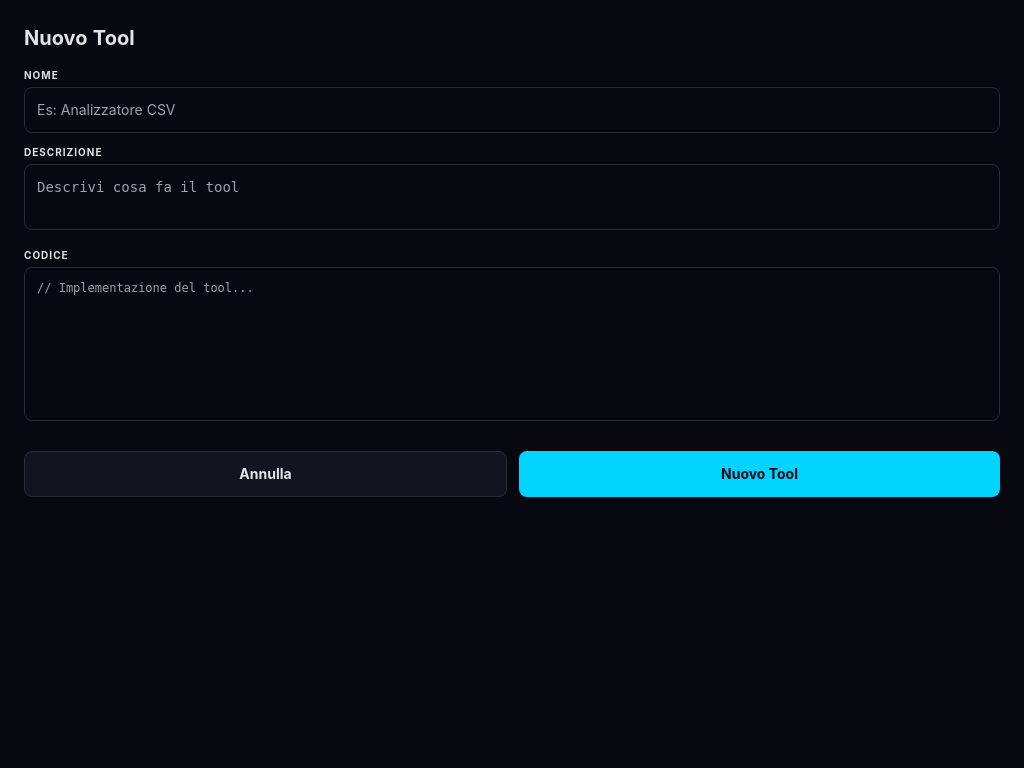
Test: ToolForm › catches non-Error exceptions
Type "Test" into the field with placeholder "Es: Analizzatore CSV".
click(512, 110); type("Test")  # box top-left (24, 87), bottom-right (1000, 133)
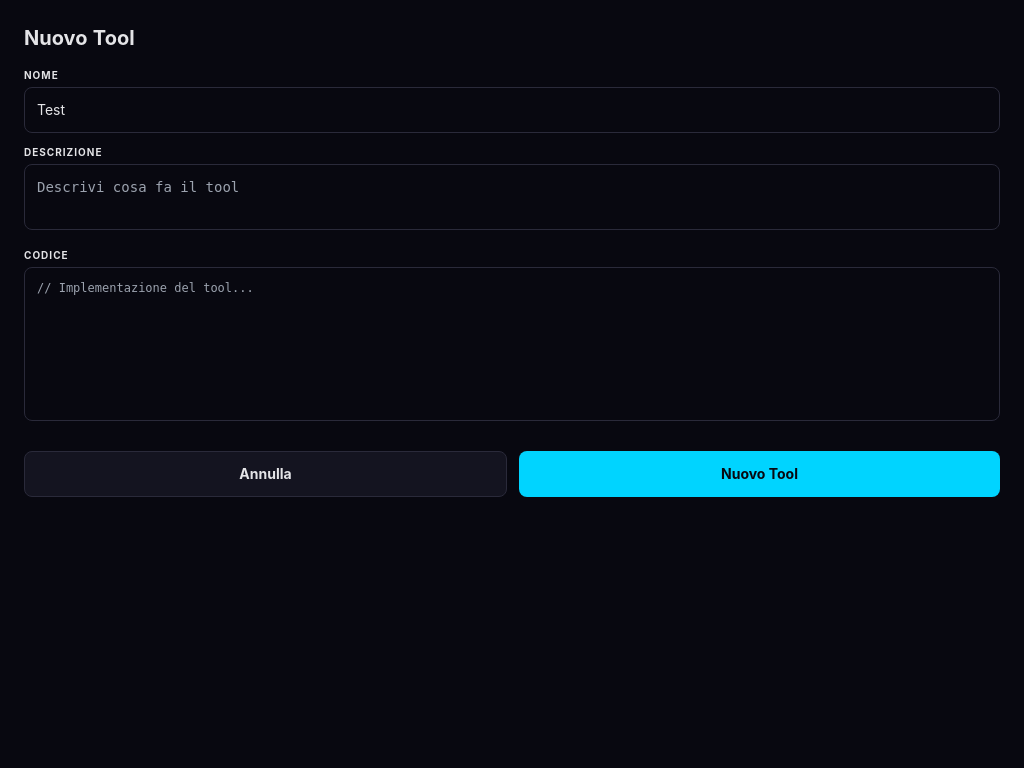
Click the button "Nuovo Tool".
click(760, 474)  # box top-left (519, 451), bottom-right (1000, 497)
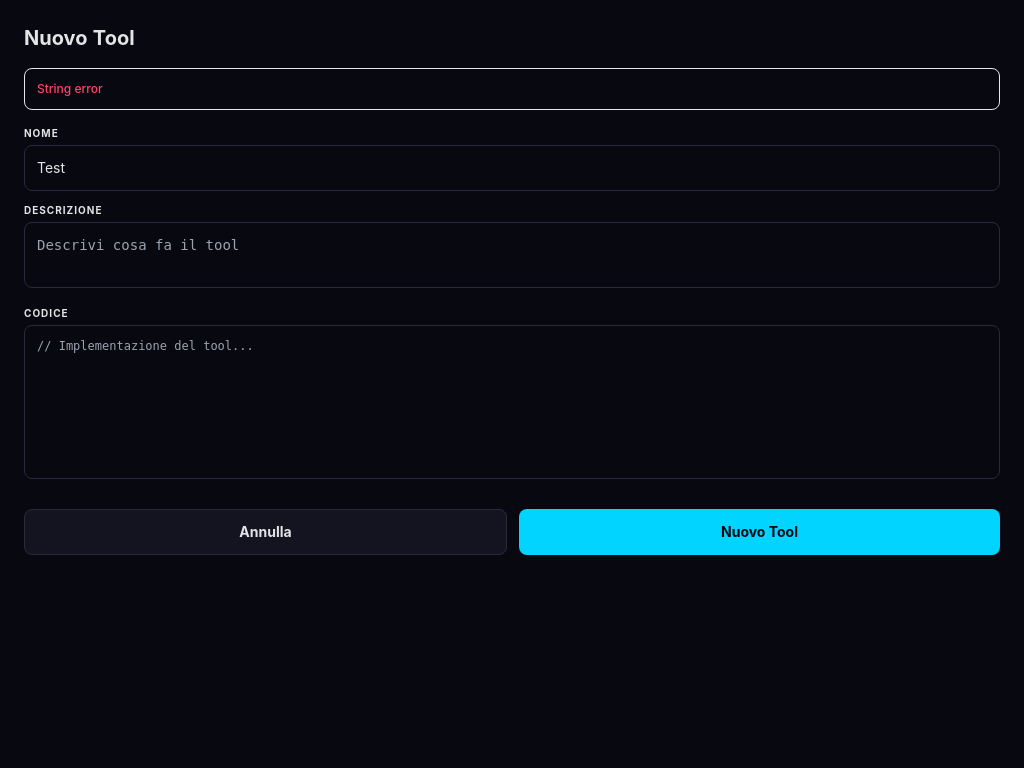
Now the text "String error" is shown, box top-left (24, 68), bottom-right (1000, 110)
